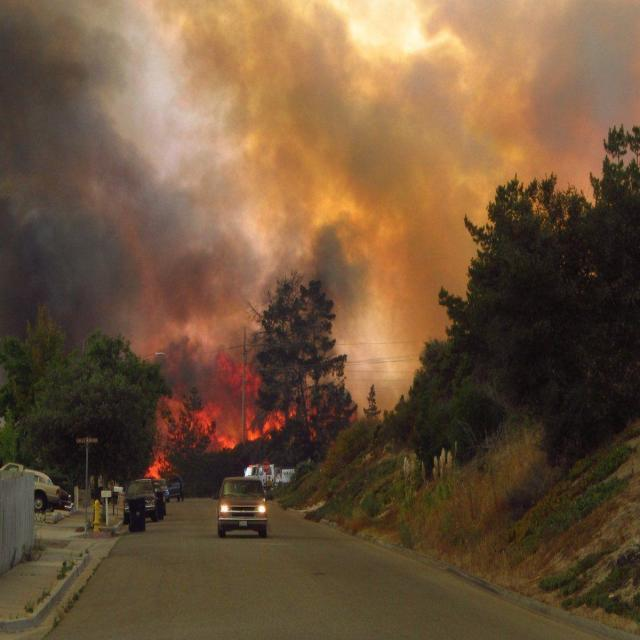Fire: (142, 348, 320, 481)
Smoke: (2, 0, 452, 361), (453, 2, 640, 188)
